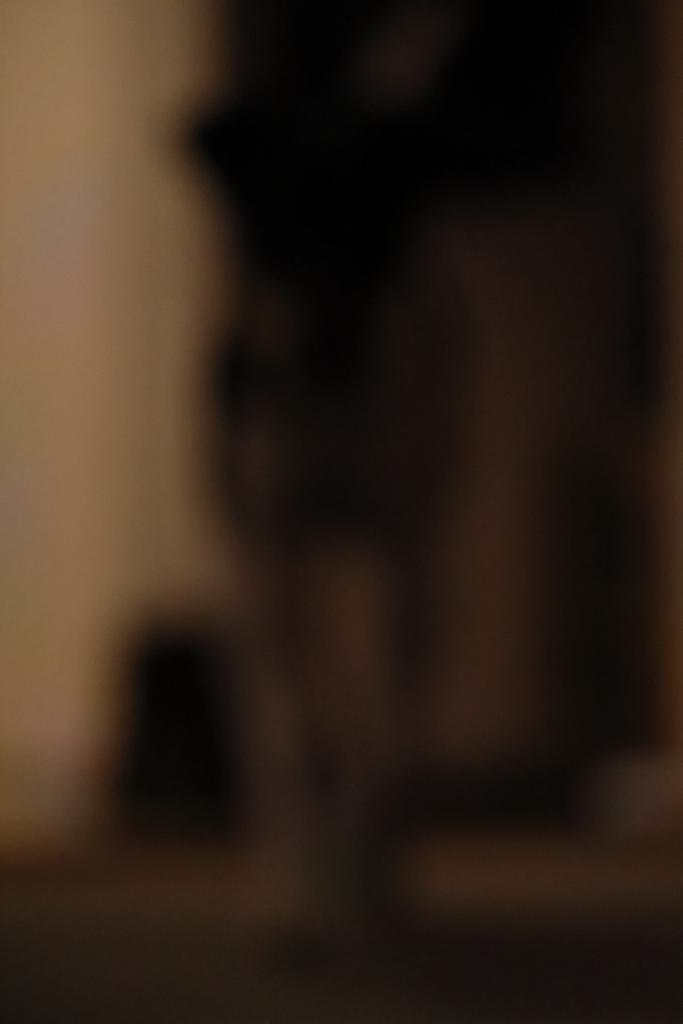Dog: (137, 33, 579, 968)
